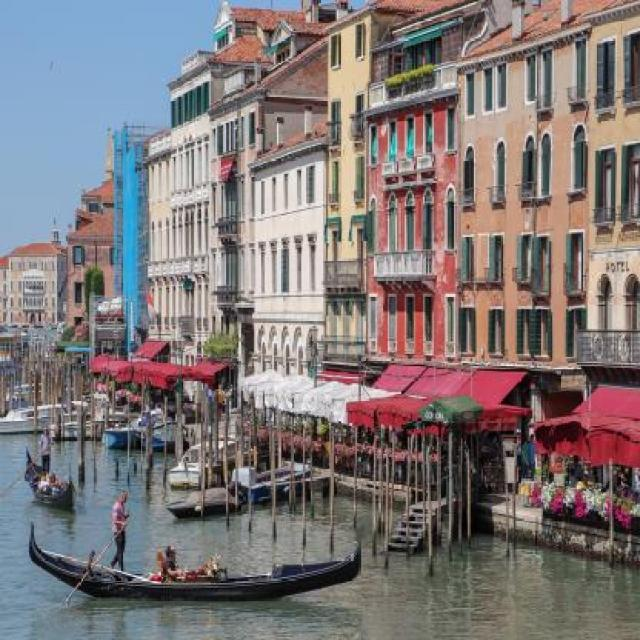ship: (18, 522, 365, 598), (168, 433, 252, 485), (48, 393, 128, 438), (22, 446, 76, 511), (230, 461, 312, 501), (165, 479, 241, 518), (131, 404, 186, 450), (104, 424, 134, 448)
